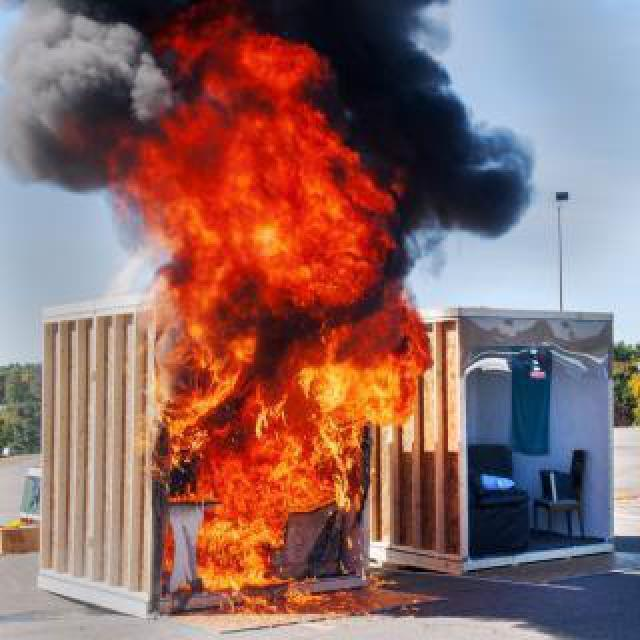Fire: (140, 36, 424, 620)
Smoke: (366, 2, 562, 246)
